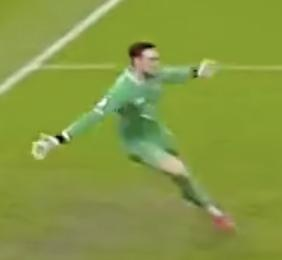goalkeeper: (18, 30, 267, 252)
